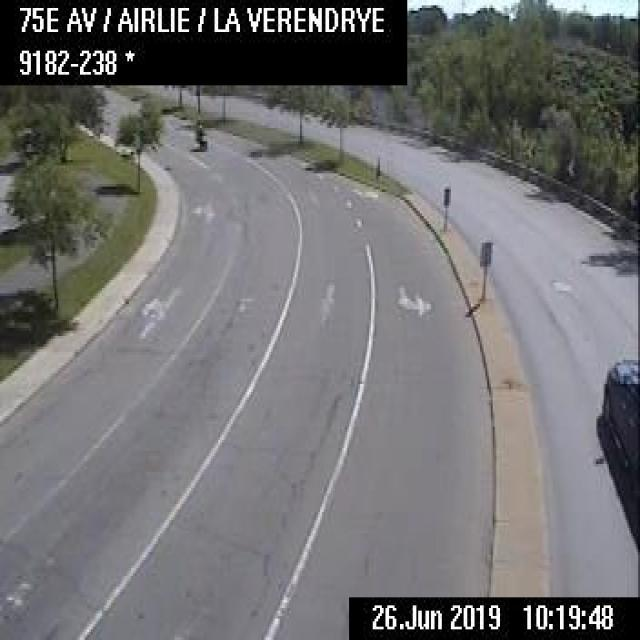vehicle: (593, 355, 638, 552), (193, 116, 206, 148)
